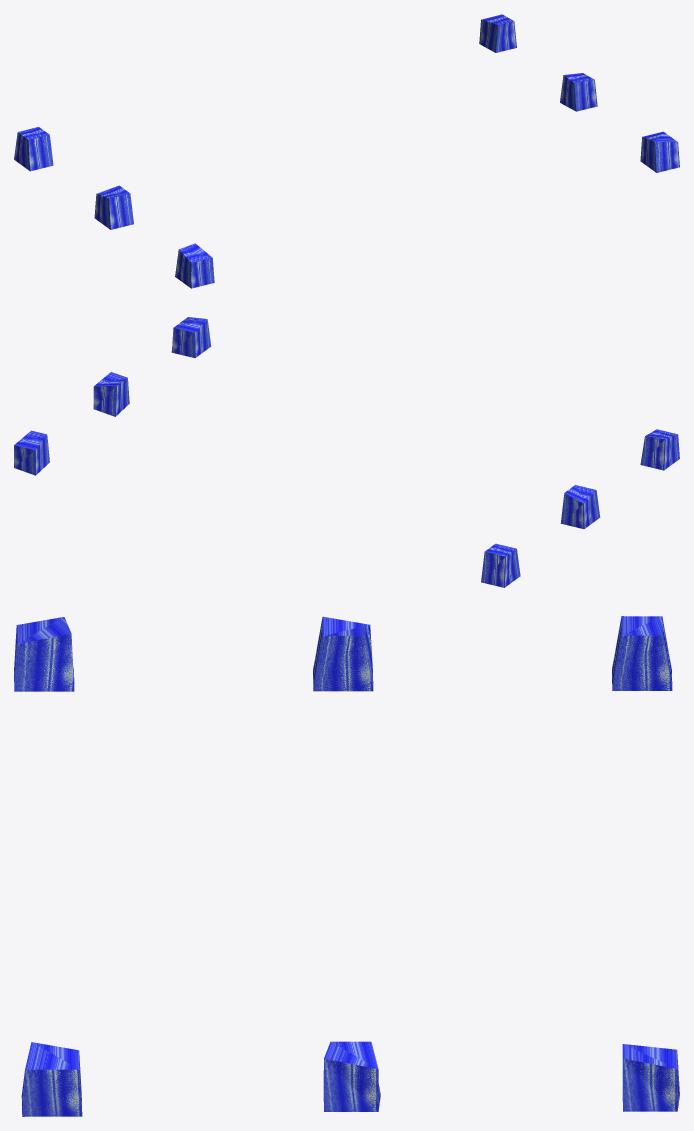
3 renders of one model, top to bottom at view 1: azimuth 30°, elevation 25°; view 2: azimuth 150°, elevation 25°; view 3: azimuth 270°, elevation 25°, orthographic. The views are drawn at different scales.
Bounding box in the file's own units: 0.8195 × 0.0466 × 0.5158.
Materials: 1 (1 with a texture image).
